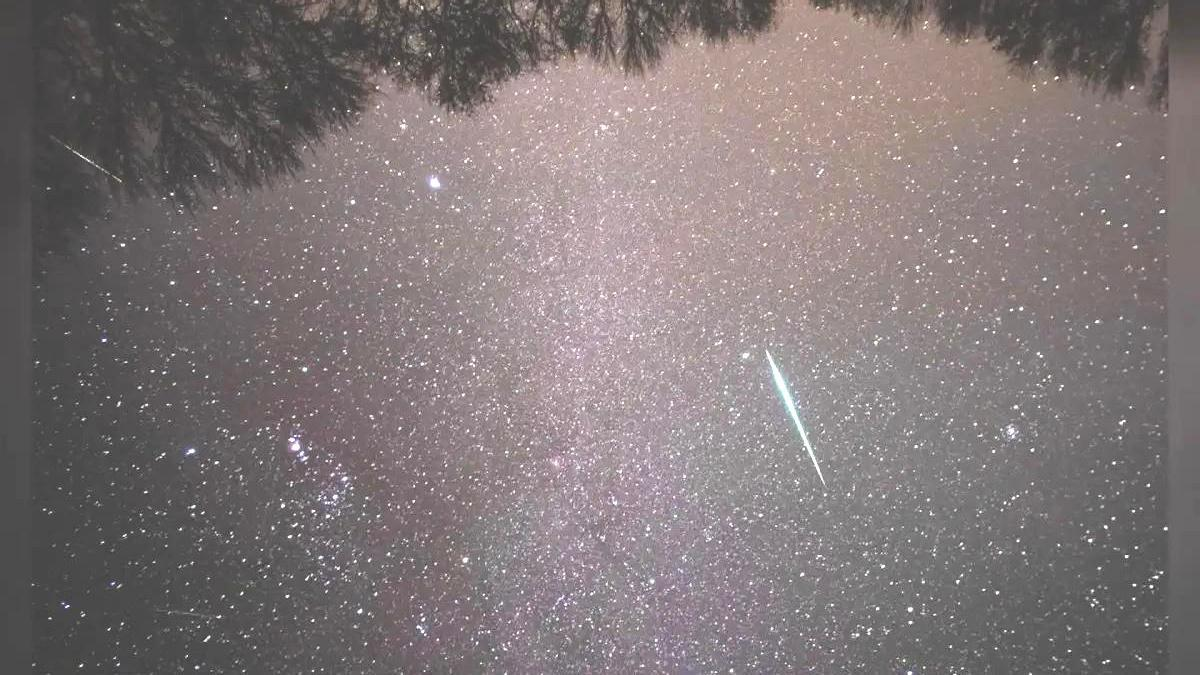meteorite: (749, 340, 839, 492), (45, 132, 135, 188)
